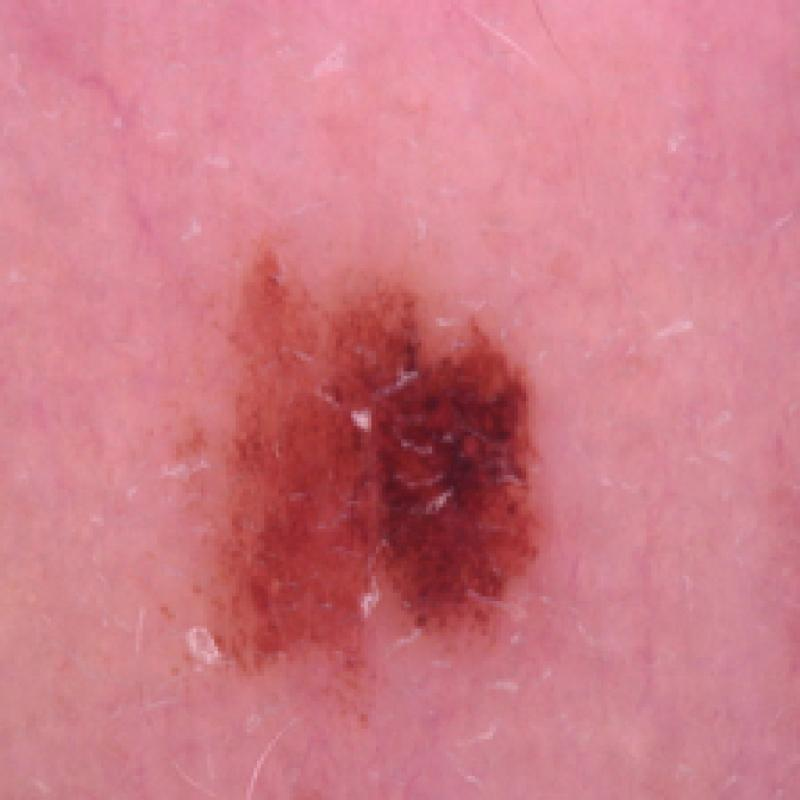benign: (158, 239, 625, 710)
